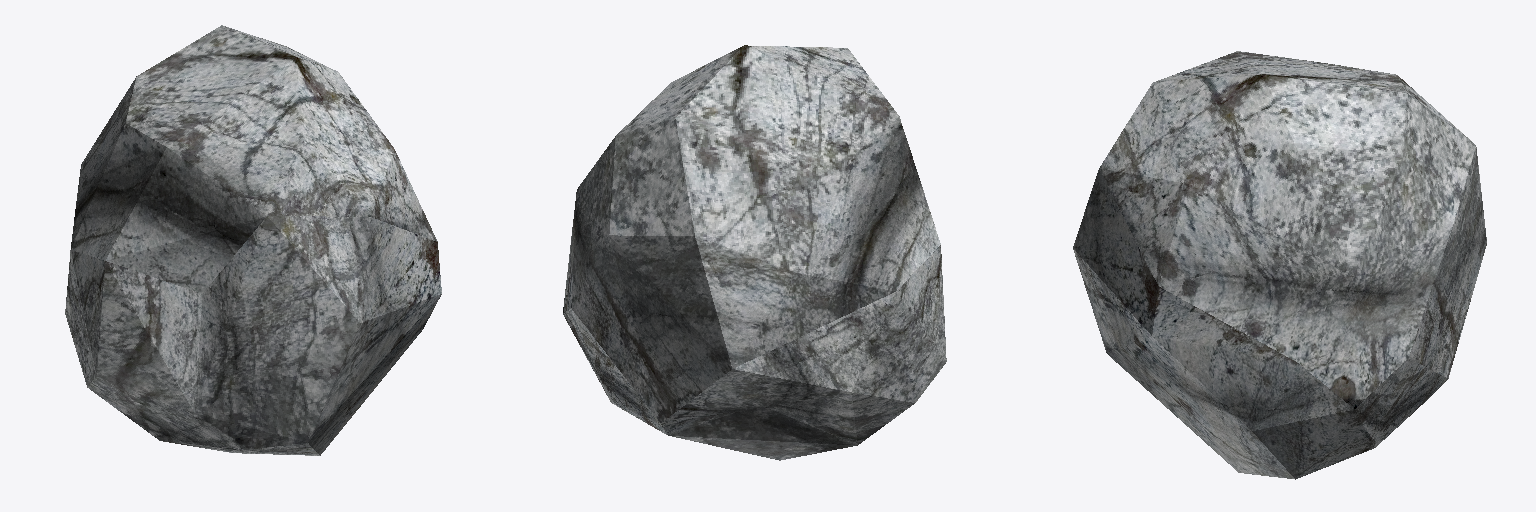
The picture shows the model from 3 angles: view 1: azimuth 30°, elevation 25°; view 2: azimuth 150°, elevation 25°; view 3: azimuth 270°, elevation 25°; orthographic projection.
Parts seen in each view (by area): view 1: Icosphere.007; view 2: Icosphere.007; view 3: Icosphere.007.
Part boxes in pixels (x1,y1,x2,y2): Icosphere.007: (65,25,441,455); Icosphere.007: (563,45,946,460); Icosphere.007: (1073,51,1486,479).
Bounding box in the file's own units: 11.85 × 13.18 × 12.58.
1 materials, 1 textured.